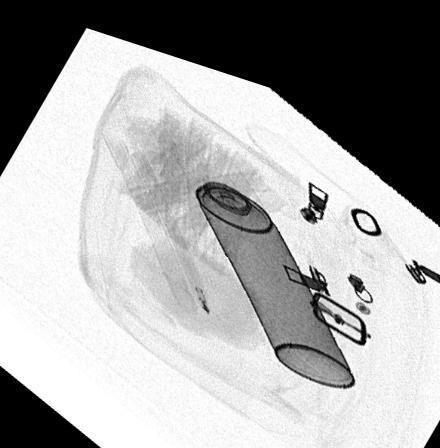Sprayer: (171, 134, 355, 365)
